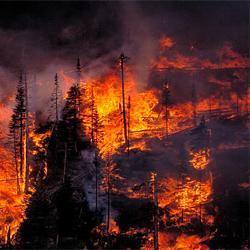fire: (86, 81, 153, 141), (158, 174, 209, 210), (0, 161, 24, 229)
